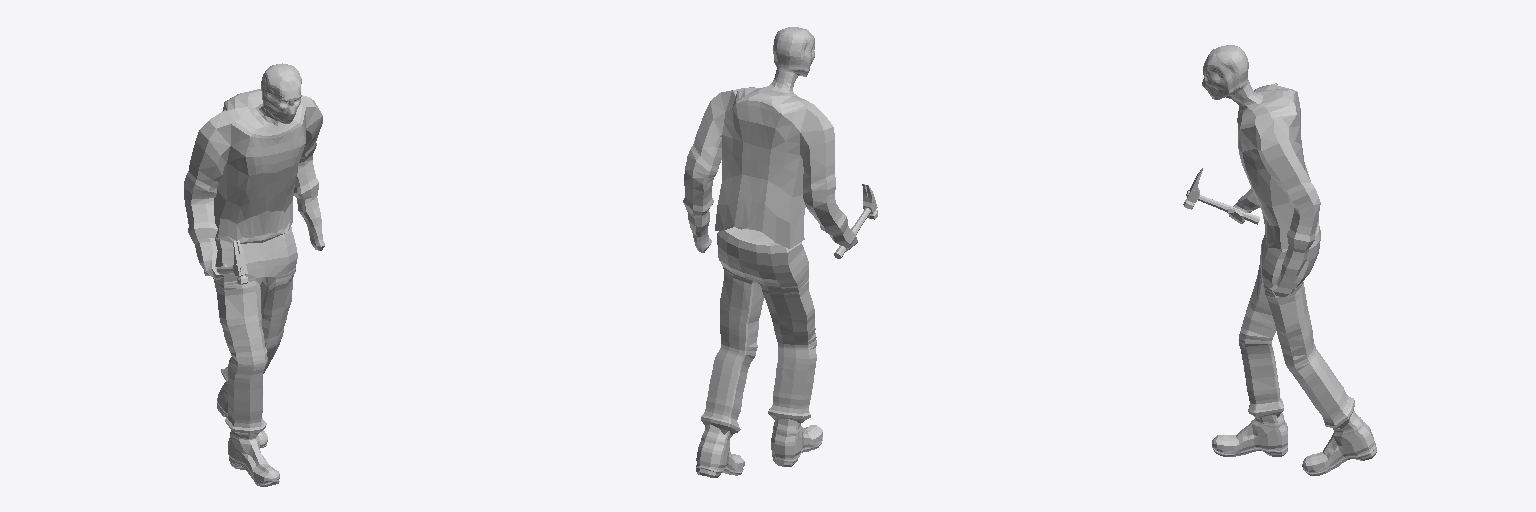
Rendered from Murderer_Idle24.obj.
The picture shows the model from 3 angles: view 1: azimuth 30°, elevation 25°; view 2: azimuth 150°, elevation 25°; view 3: azimuth 270°, elevation 25°; orthographic projection.
Parts seen in each view (by area): view 1: Körper, Beine, Stiefel, Hammer; view 2: Körper, Beine, Stiefel, Hammer; view 3: Körper, Beine, Stiefel, Hammer.
Part boxes in pixels (bbox=[...]): Körper: bbox=[184, 63, 324, 279]; Beine: bbox=[213, 227, 297, 434]; Stiefel: bbox=[217, 382, 279, 486]; Hammer: bbox=[204, 240, 248, 284]; Körper: bbox=[683, 27, 857, 252]; Beine: bbox=[701, 227, 816, 437]; Stiefel: bbox=[696, 419, 822, 477]; Hammer: bbox=[834, 184, 877, 258]; Körper: bbox=[1202, 45, 1320, 296]; Beine: bbox=[1239, 224, 1354, 428]; Stiefel: bbox=[1212, 411, 1376, 475]; Hammer: bbox=[1183, 168, 1259, 224].
Size of the model in its own units: 0.341 by 0.9616 by 0.4064.